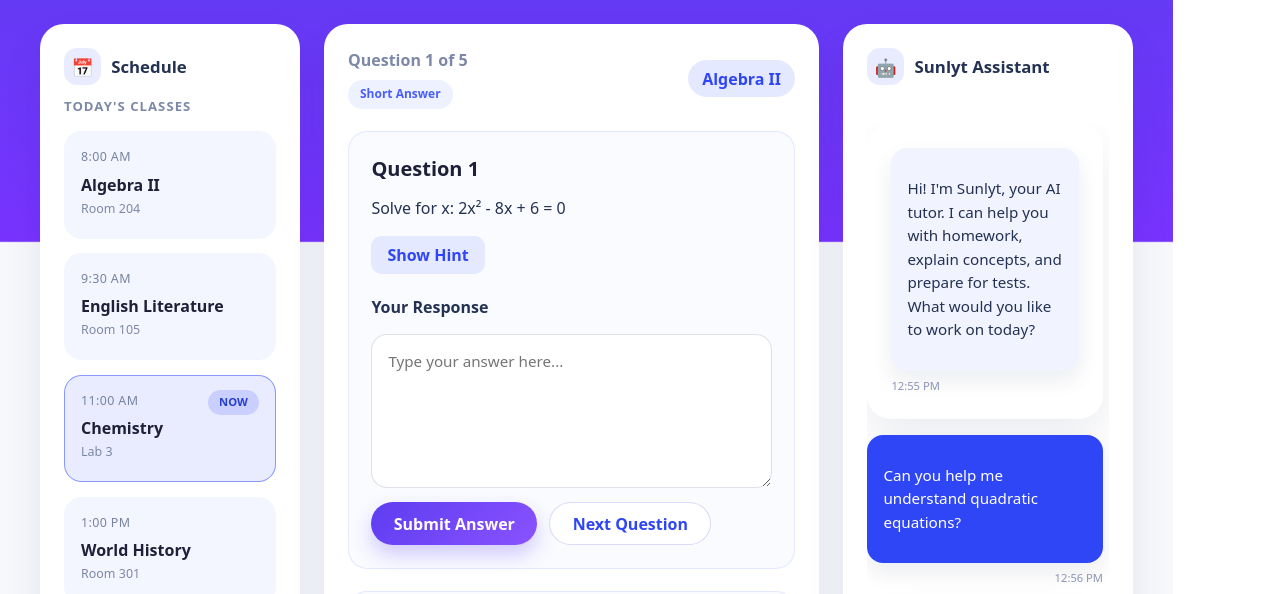
Test: App › allows hint toggling and submitting an answer
Click the button "Show Hint" at (428,256), box [371, 236, 485, 274]
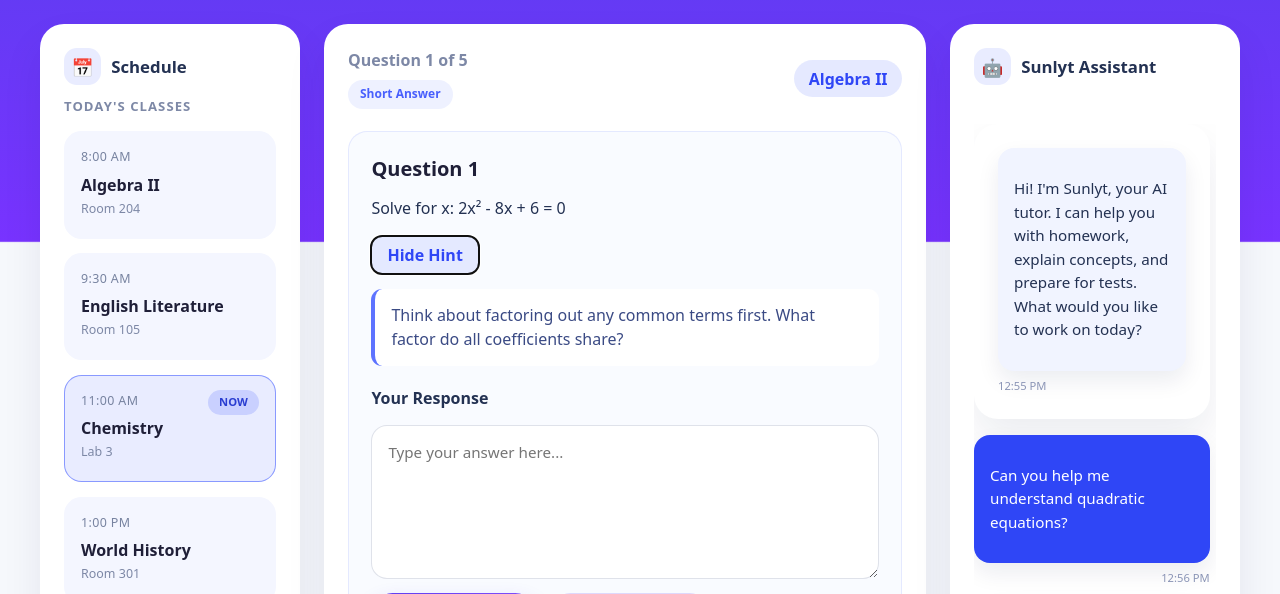
Expected: the text "Think about factoring out any common terms first" is shown, [391, 304, 815, 350]
Type "x = 3 or x = 1" into the text box labelled "Your Response" at (625,502), box [371, 425, 879, 579]
(page scrolled)
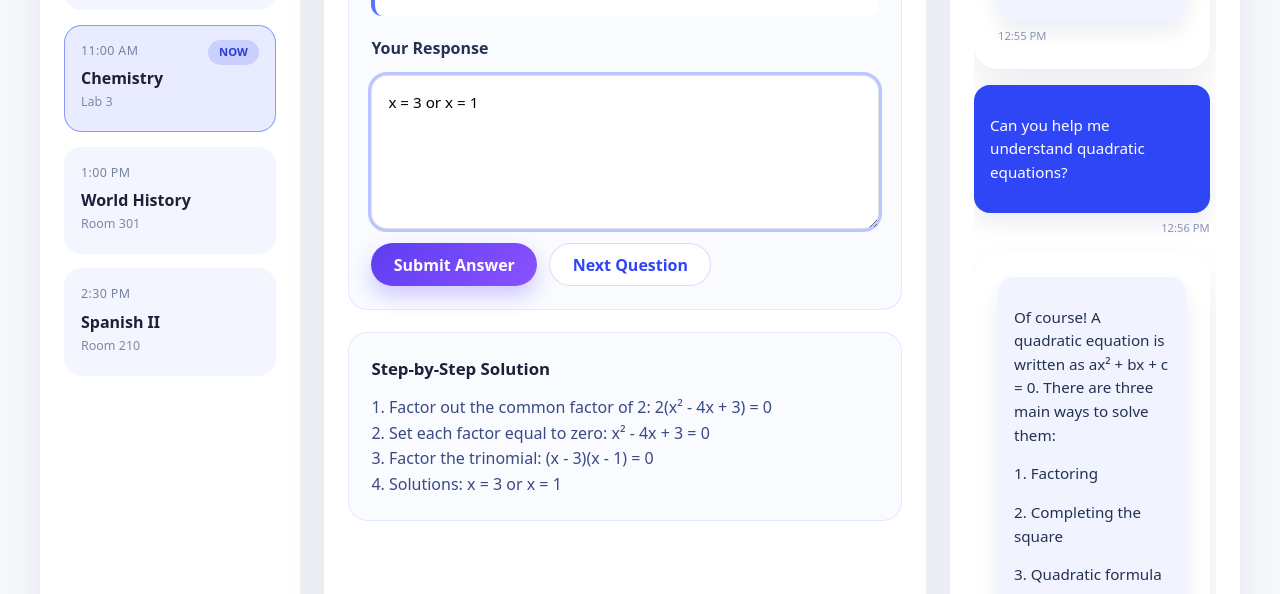
Click the button "Submit Answer" at (454,265), box [371, 243, 537, 286]
(page scrolled)
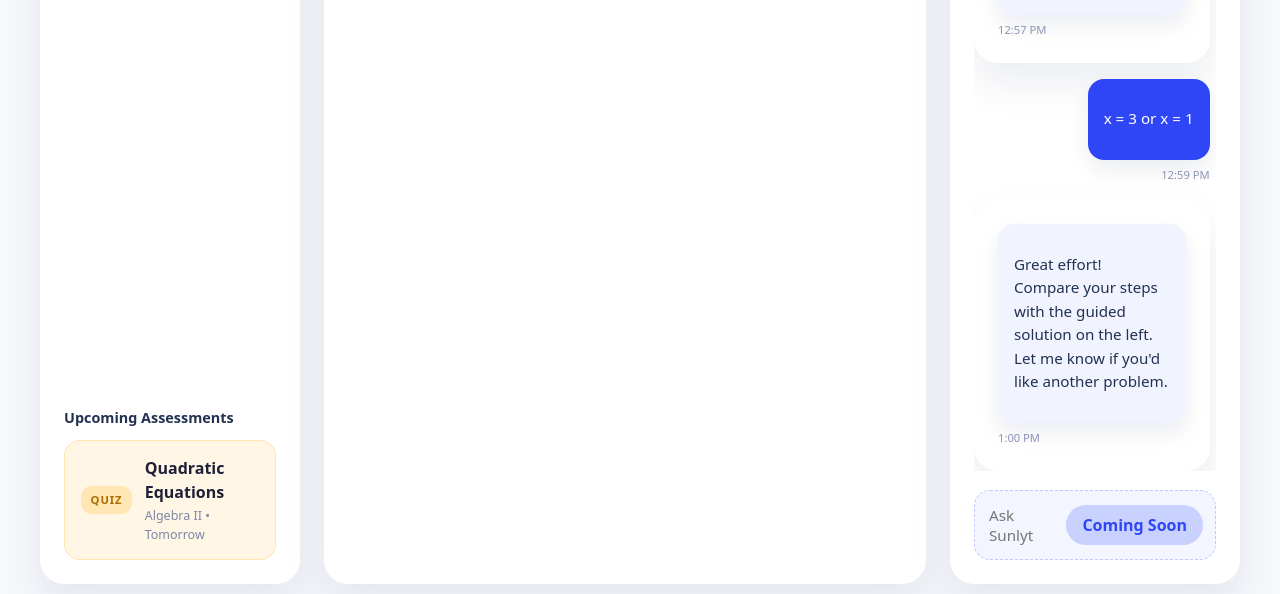
Expected: the text "Great effort! Compare your steps with the guided solution" is shown, [1014, 254, 1168, 391]
